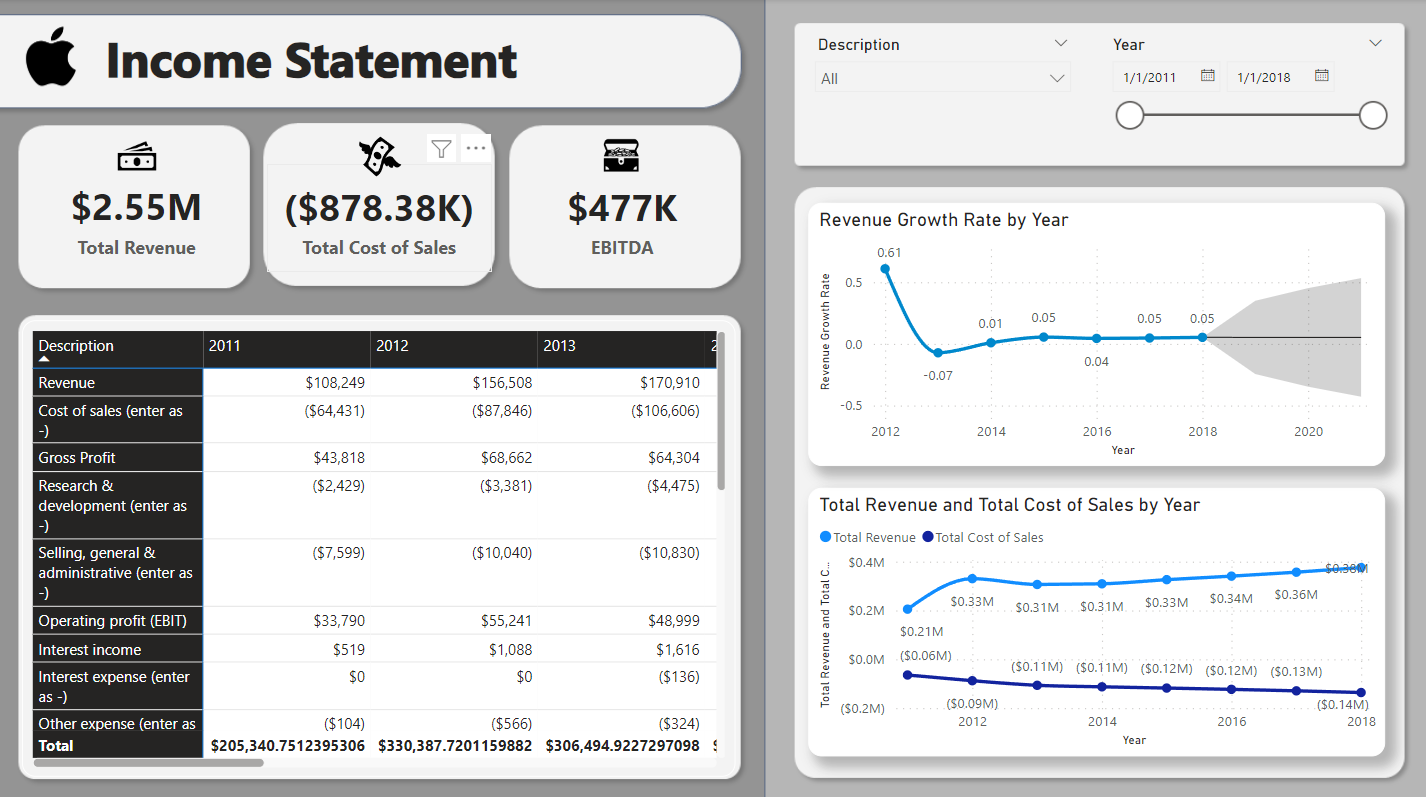

The page's visual inventory and layout, read from the dashboard file:
{"tool":"powerbi","page":{"name":"Income Statement","canvas":[1280,720],"ordinal":1},"visuals":[{"type":"pivotTable","fields":{"Rows":["Income Statement (2).Description"],"Values":["Sum(Inc_df.Value)"],"Columns":["Inc_df.Year"]},"box":[22.1,285.8,635.6,406.7],"z":0},{"type":"card","fields":{"Values":["Inc.Total Revenue"]},"box":[48.8,152.2,151.1,86],"z":1000},{"type":"card","fields":{"Values":["Inc_df.Total Cost of Sales"]},"box":[240.5,146.4,199.9,97.6],"z":2000},{"type":"lineChart","fields":{"Y":["Inc_df.Total Revenue","Inc_df.Total Cost of Sales"],"Category":["Inc_df.Year"]},"box":[722.7,434.6,513.6,239.4],"z":3000},{"type":"lineChart","fields":{"Category":["Inc_df.Year"],"Y":["Inc_df.Revenue Growth Rate"]},"box":[722.7,181.3,513.6,234.7],"z":4000},{"type":"card","fields":{"Values":["Inc_df.EBITDA"]},"box":[457.8,148.7,198.7,93],"z":5000},{"type":"slicer","fields":{"Values":["Inc_df.Year"]},"box":[980.7,26.7,266.1,156.9],"z":6000},{"type":"slicer","fields":{"Values":["Inc_df.Description"]},"box":[717.9,27.2,248.7,106.9],"z":7000},{"type":"textbox","box":[73.2,17.4,412.5,72],"z":8000},{"type":"image","box":[16,17.7,65.1,66.2],"z":9000},{"type":"image","box":[101.1,117.4,46.5,46.5],"z":10000},{"type":"image","box":[316.1,116.2,50,48.8],"z":11000},{"type":"image","box":[529.9,115,52.3,48.8],"z":12000}]}

Visuals, with their boxes in screenshot pixels (x1, y1, x2, y2), scaled from the page's 1280x720 canvas onto the 1426x797 screenshot:
pivotTable - Income Statement (2).Description x Sum(Inc_df.Value): 25, 316, 733, 767
card - Inc.Total Revenue: 54, 168, 223, 264
card - Inc_df.Total Cost of Sales: 268, 162, 491, 270
lineChart - Inc_df.Total Revenue x Inc_df.Total Cost of Sales: 805, 481, 1377, 746
lineChart - Inc_df.Year x Inc_df.Revenue Growth Rate: 805, 201, 1377, 460
card - Inc_df.EBITDA: 510, 165, 731, 268
slicer - Inc_df.Year: 1093, 30, 1389, 203
slicer - Inc_df.Description: 800, 30, 1077, 148
textbox: 82, 19, 541, 99
image: 18, 20, 90, 93
image: 113, 130, 164, 181
image: 352, 129, 408, 183
image: 590, 127, 649, 181
